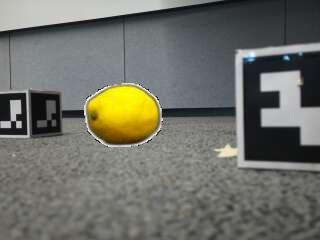lemon: (86, 87, 159, 146)
